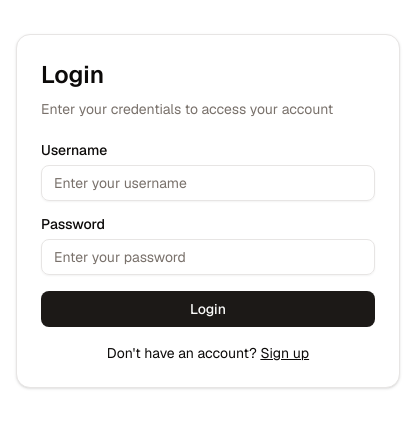
Login Page › should display error message on failed login
Type "wrong" into the field labelled "Username" at (208, 183), box top-left (41, 165), bottom-right (375, 201)
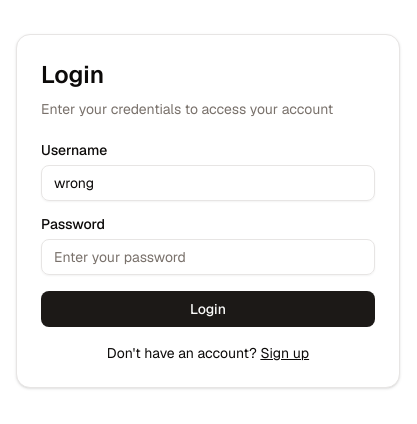
Type "wrong" into the password field labelled "Password" at (208, 257), box top-left (41, 239), bottom-right (375, 275)
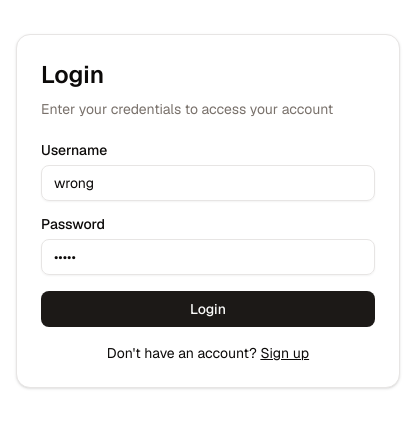
Click the button "Login" at (208, 309), box top-left (41, 291), bottom-right (375, 327)
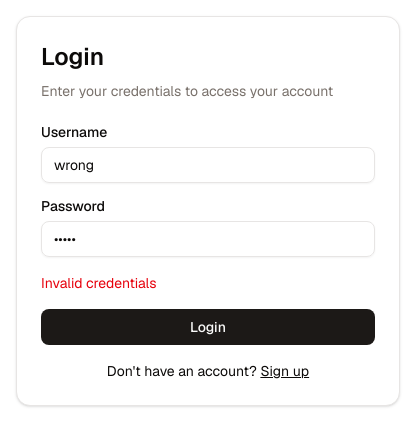
Check: the text "Invalid credentials" is shown, box top-left (41, 274), bottom-right (156, 292)
